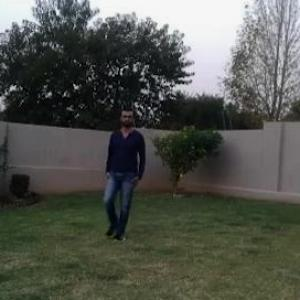follow: (104, 109, 140, 234)
